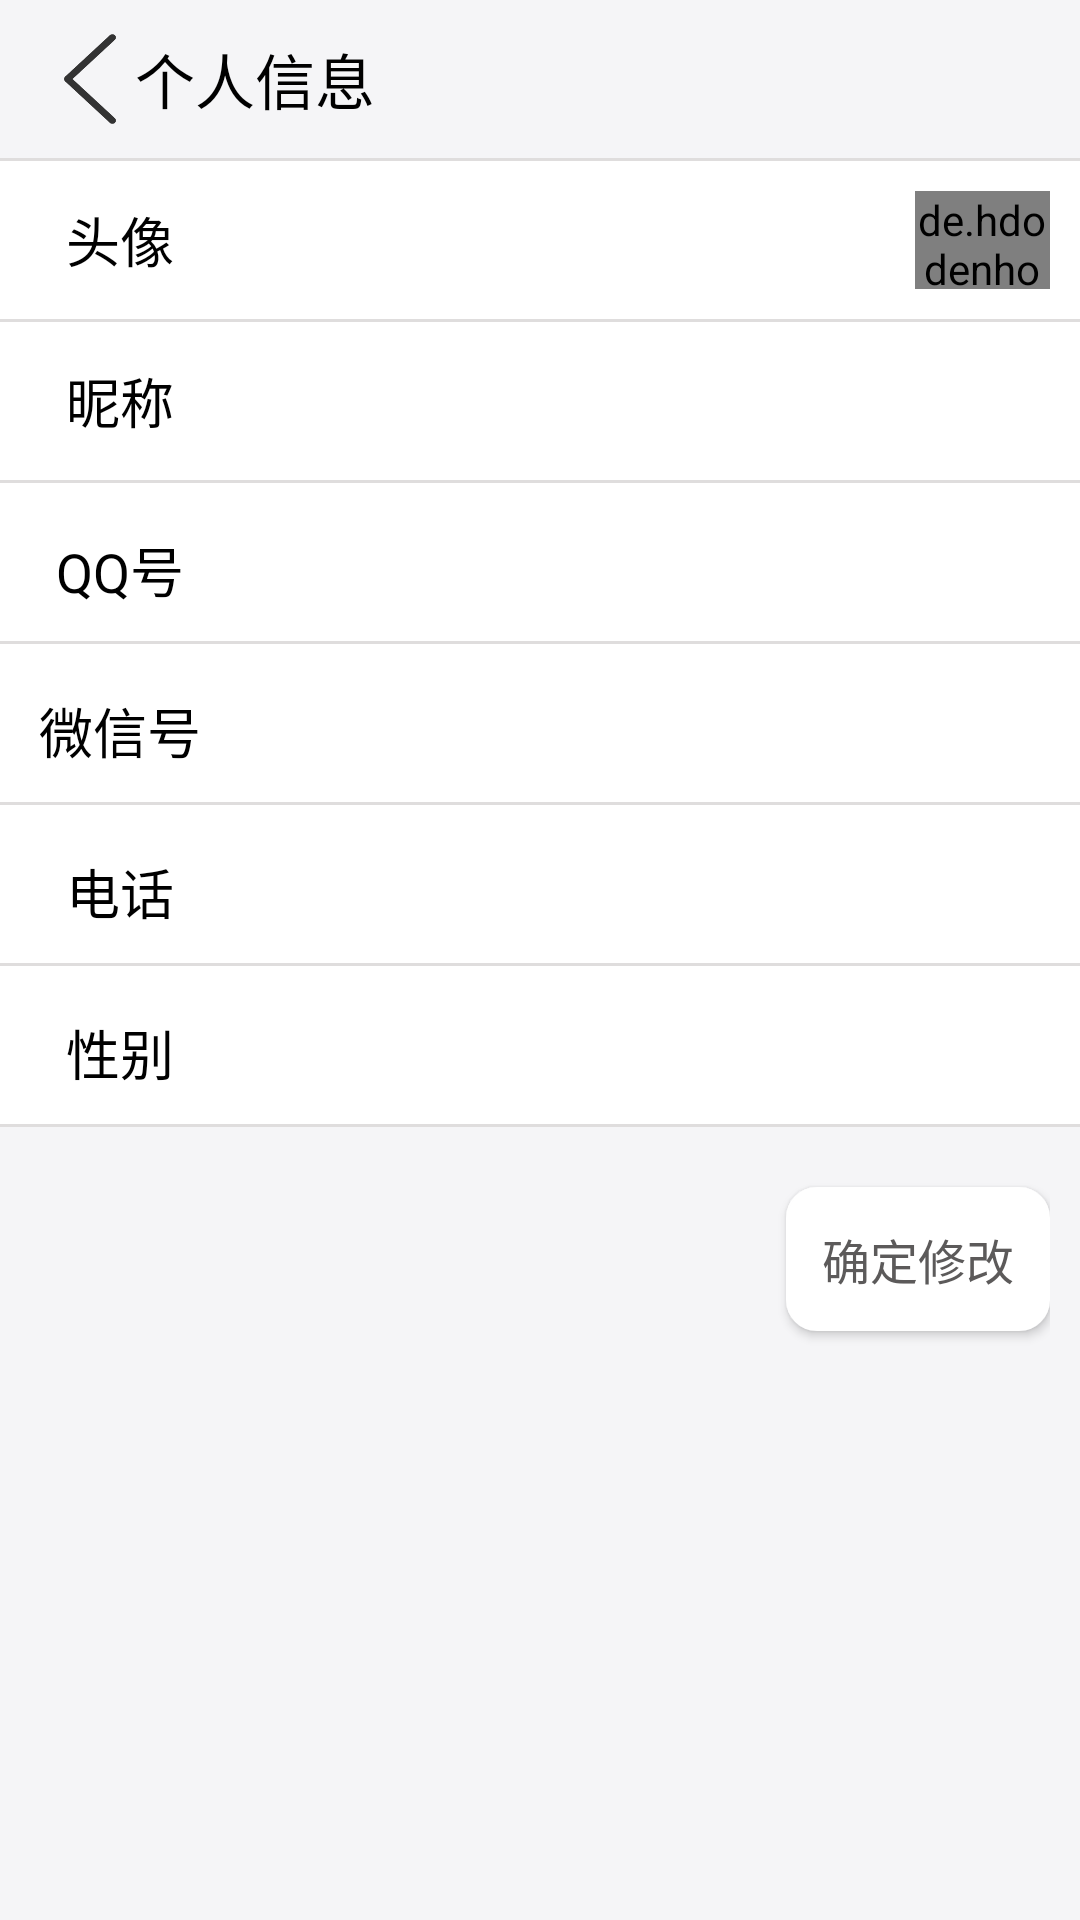

Icon click points for this 1080px x 1920px phone screenshot, format point (x, y):
personal back head: point (90, 79)
